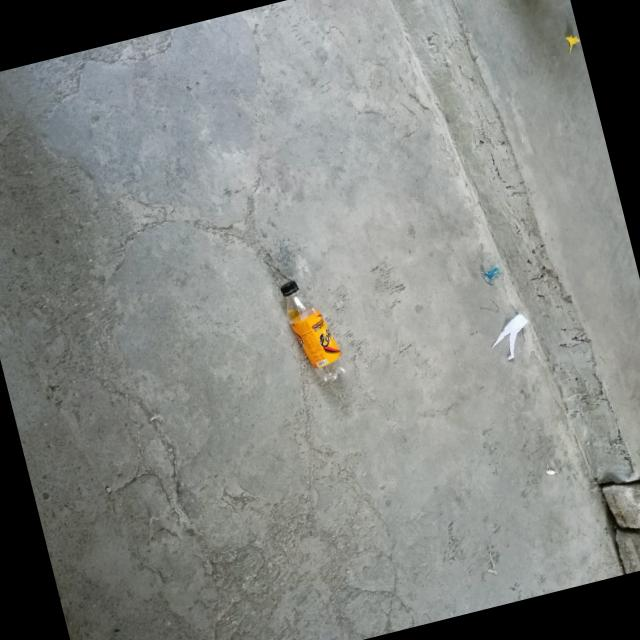Bottle: (278, 278, 347, 380)
